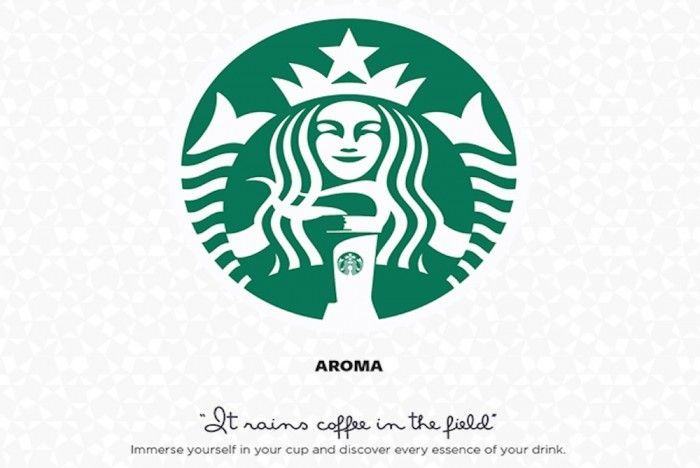starbucks Fake: (171, 14, 525, 320)
